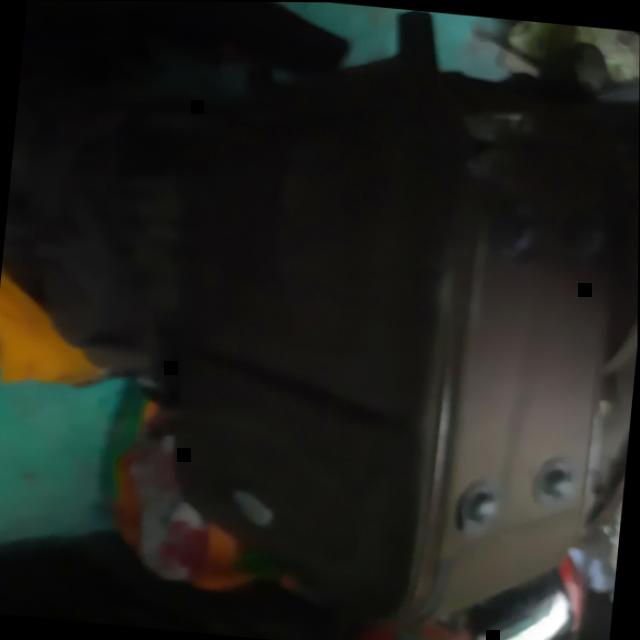luggage: (170, 12, 622, 618)
